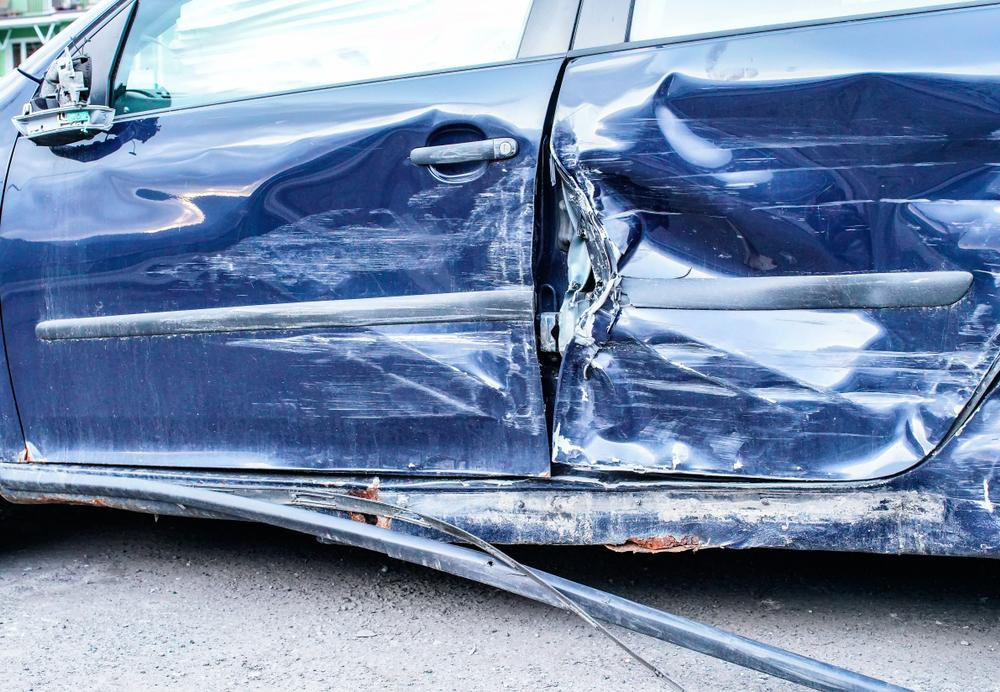dent: (561, 73, 1000, 481), (172, 102, 544, 439)
